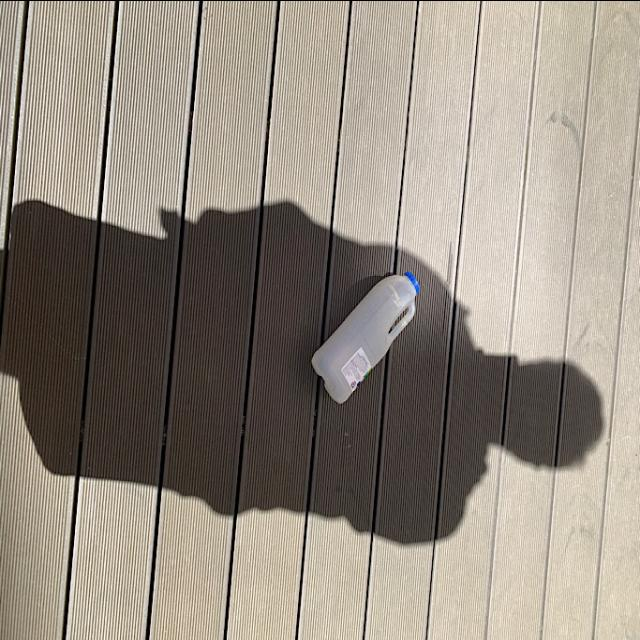litter: (307, 268, 428, 407)
